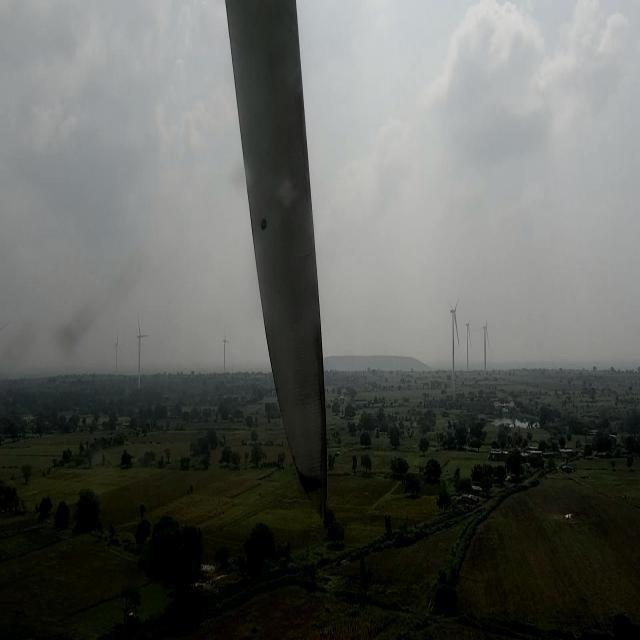Pin_Hole: (254, 214, 273, 235)
oil_leakage: (299, 476, 322, 494)
